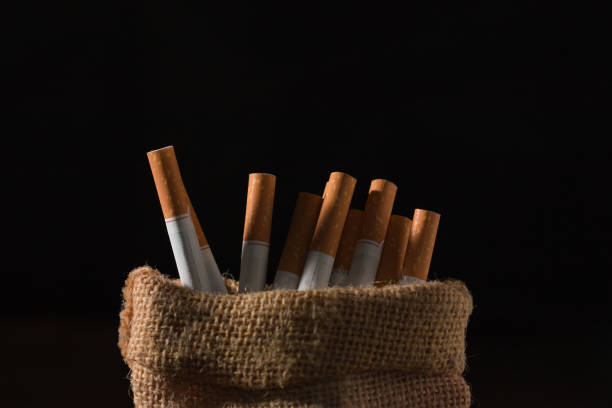cigarette: (148, 146, 215, 290), (298, 170, 358, 291), (348, 177, 398, 287), (236, 172, 278, 296), (273, 191, 324, 290), (191, 200, 228, 294), (374, 213, 414, 287), (403, 207, 442, 282), (330, 207, 365, 286)
